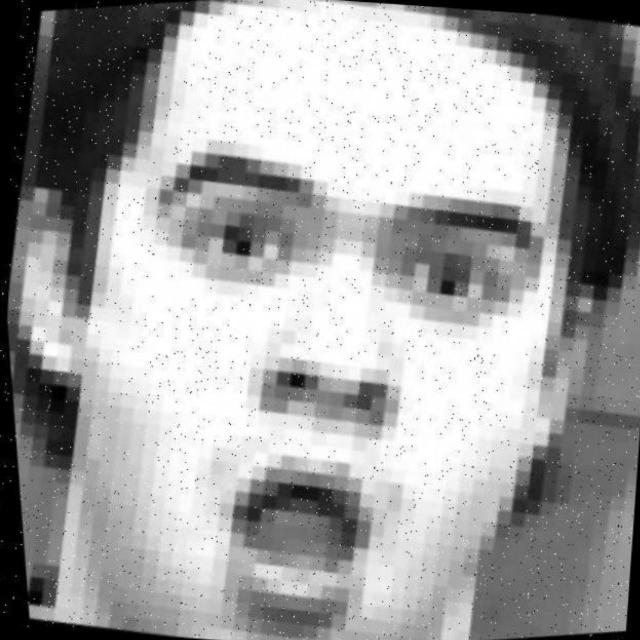Surprised: (37, 70, 576, 640)
